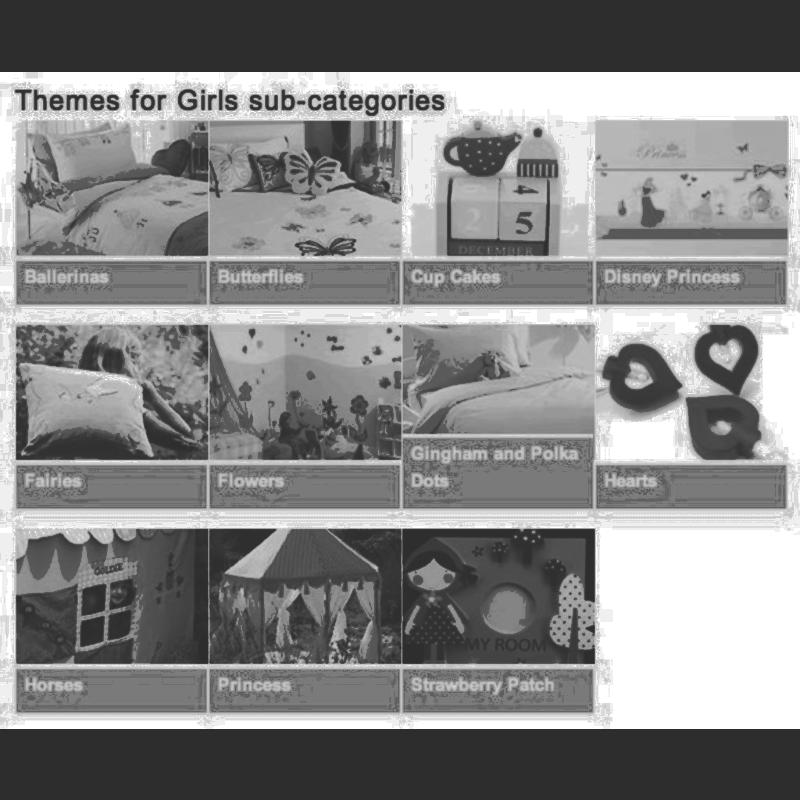pillow: (17, 354, 162, 462), (390, 326, 524, 407), (38, 122, 142, 188), (31, 114, 108, 184)
